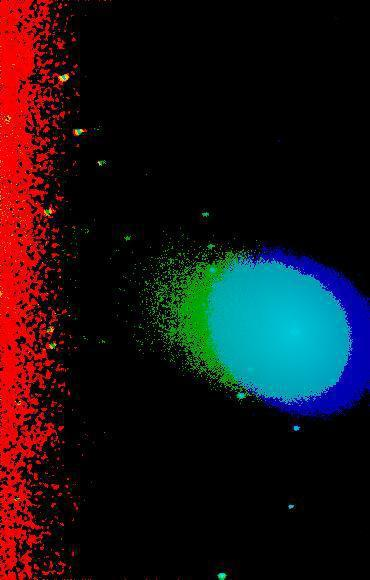star: (206, 366, 236, 396)
